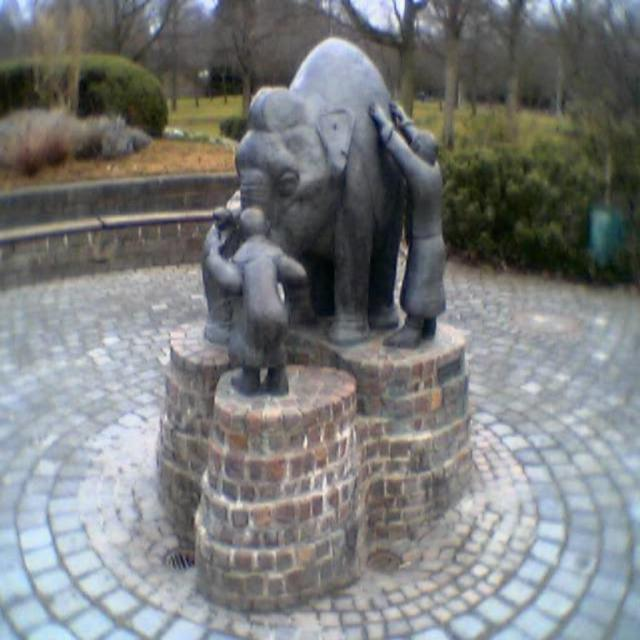elephant: (207, 34, 402, 345)
